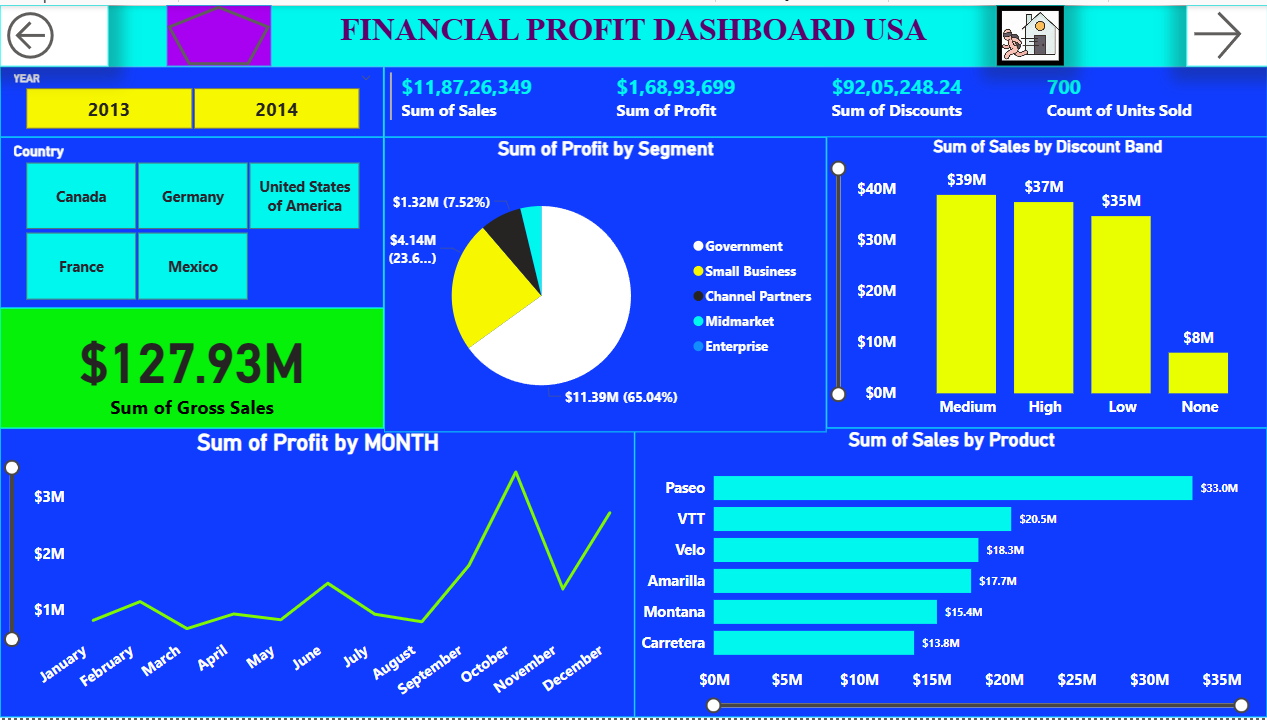

This screenshot's page, from the dashboard's own definition file:
{"tool":"powerbi","page":{"name":"ASMNT 9 PROFIT DASHBOARD","canvas":[1280,720],"ordinal":11},"visuals":[{"type":"textbox","box":[0,0,1279.5,62.1],"z":0},{"type":"lineChart","fields":{"Y":["Sum(financials.Profit)"],"Category":["FI NEW DATE.MONTH"]},"box":[0,427,640.5,292.2],"z":1000},{"type":"clusteredBarChart","fields":{"Y":["Sum(financials. Sales)"],"Category":["financials.Product"]},"box":[640.5,427,639,292.2],"z":2000},{"type":"clusteredColumnChart","fields":{"Y":["Sum(financials. Sales)"],"Category":["financials.Discount Band"]},"box":[834.3,131.7,445.2,295.3],"z":3000},{"type":"pieChart","fields":{"Y":["Sum(financials.Profit)"],"Category":["financials.Segment"]},"box":[387.6,133.3,446.7,298.3],"z":4000},{"type":"multiRowCard","fields":{"Values":["Sum(financials. Sales)","Sum(financials.Profit)","Sum(financials.Discounts)","CountNonNull(financials.Units Sold)"]},"box":[387.6,62.1,891.9,71.2],"z":5000},{"type":"slicer","fields":{"Values":["FI NEW DATE.YEAR"]},"box":[0,62.1,387.6,71.2],"z":6000},{"type":"slicer","fields":{"Values":["financials.Country"]},"box":[0,133.3,387.6,172.6],"z":7000},{"type":"card","fields":{"Values":["Sum(financials.Gross Sales)"]},"box":[0,305.9,387.6,121.1],"z":8000},{"type":"actionButton","box":[0,0,109,62.1],"z":9000},{"type":"actionButton","box":[1197.7,0,81.8,62.1],"z":10000},{"type":"image","box":[1005.4,0,69.7,62.1],"z":11000},{"type":"actionButton","box":[168.1,0,106,62.1],"z":12000}]}

Visuals, with their boxes in screenshot pixels (x1, y1, x2, y2), scaled from the page's 1280x720 canvas onto the 1267x720 screenshot:
textbox: [0, 0, 1266, 62]
lineChart - Sum(financials.Profit) x FI NEW DATE.MONTH: [0, 427, 634, 719]
clusteredBarChart - Sum(financials. Sales) x financials.Product: [634, 427, 1266, 719]
clusteredColumnChart - Sum(financials. Sales) x financials.Discount Band: [826, 132, 1266, 427]
pieChart - Sum(financials.Profit) x financials.Segment: [384, 133, 826, 432]
multiRowCard - Sum(financials. Sales) x Sum(financials.Profit): [384, 62, 1266, 133]
slicer - FI NEW DATE.YEAR: [0, 62, 384, 133]
slicer - financials.Country: [0, 133, 384, 306]
card - Sum(financials.Gross Sales): [0, 306, 384, 427]
actionButton: [0, 0, 108, 62]
actionButton: [1186, 0, 1266, 62]
image: [995, 0, 1064, 62]
actionButton: [166, 0, 271, 62]
